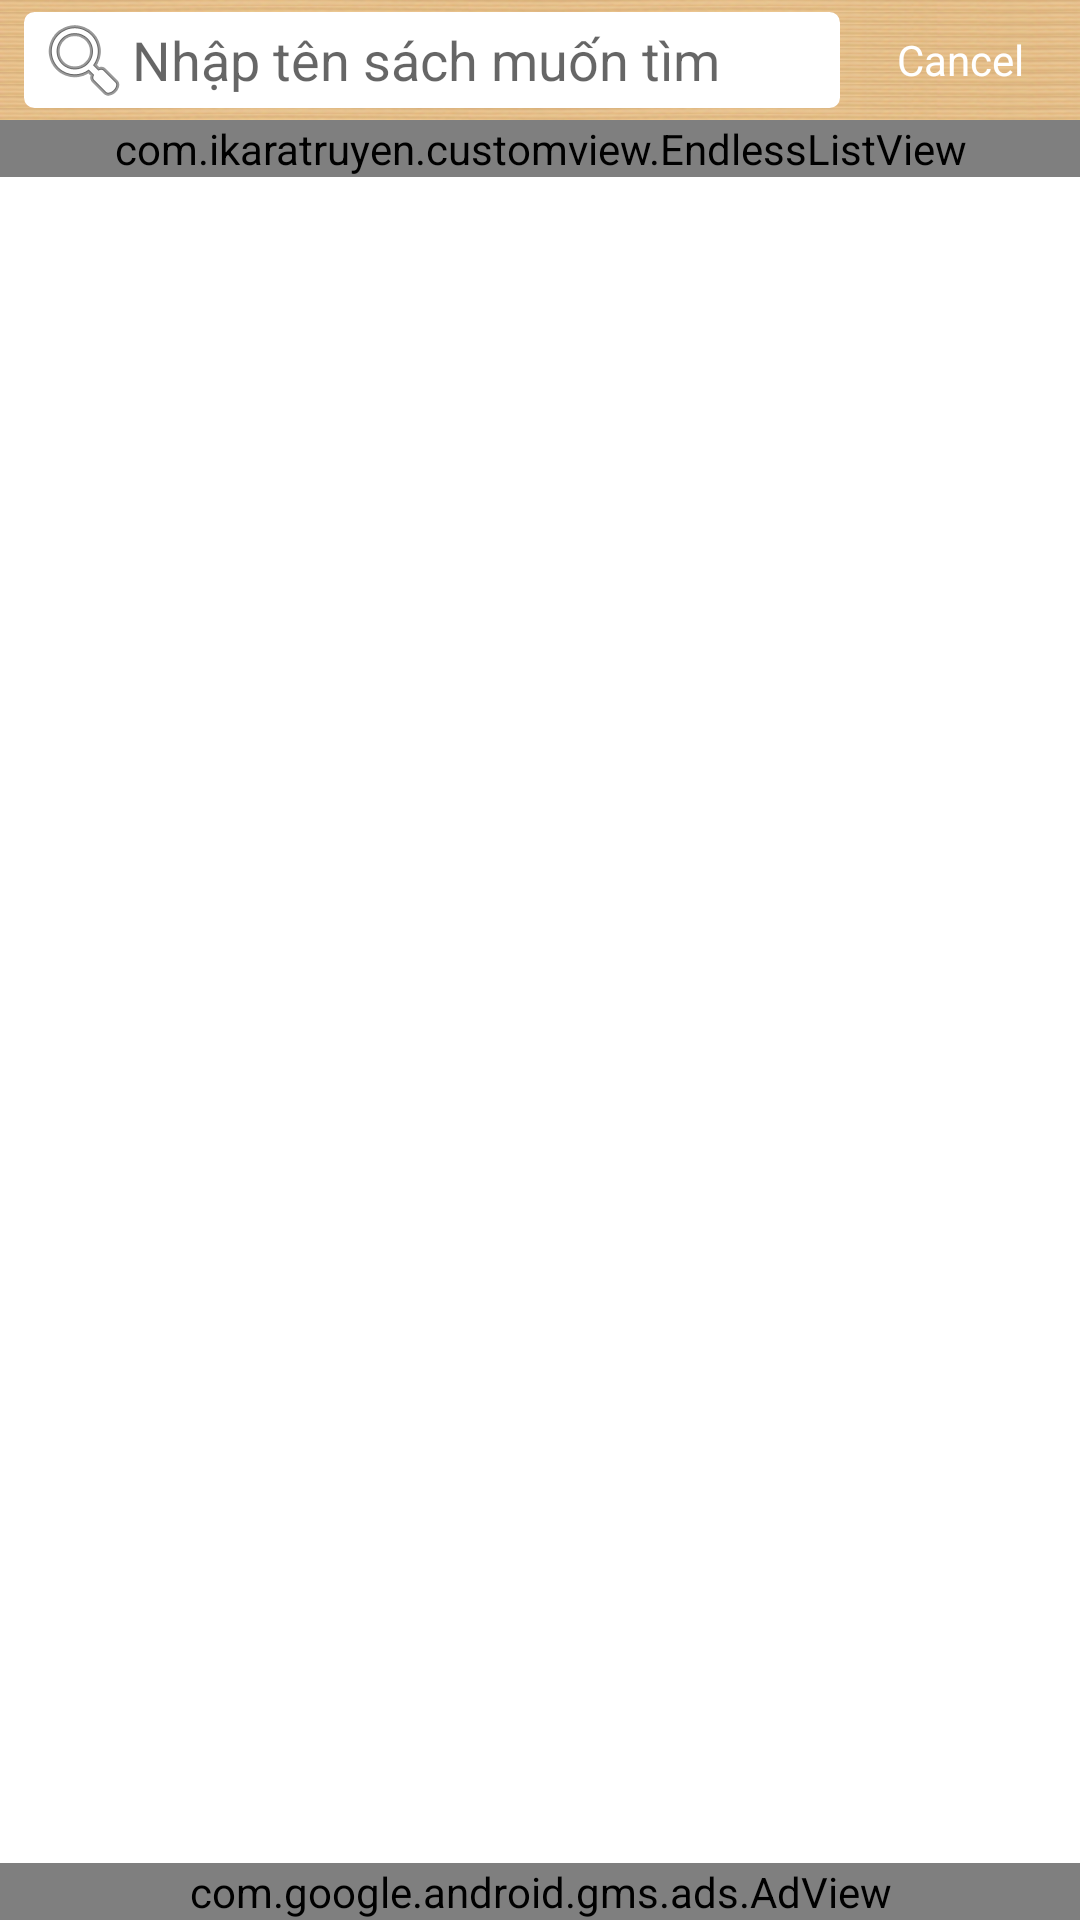

Icons on this 1080 × 1920 Android screen, each with its box as [x1,y1,x2,y2]:
search: [48,25,120,96]
